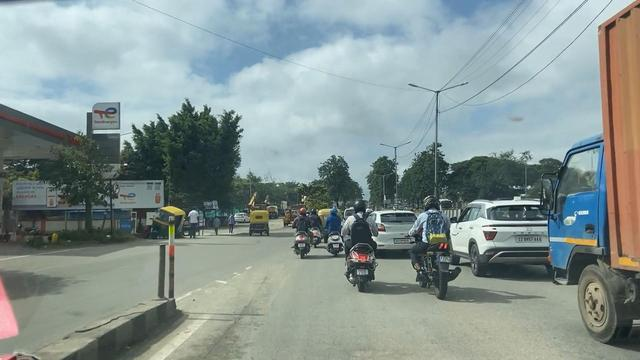LMV: (411, 196, 451, 294), (345, 204, 374, 285), (291, 208, 312, 255), (325, 205, 340, 256), (247, 208, 270, 235)
